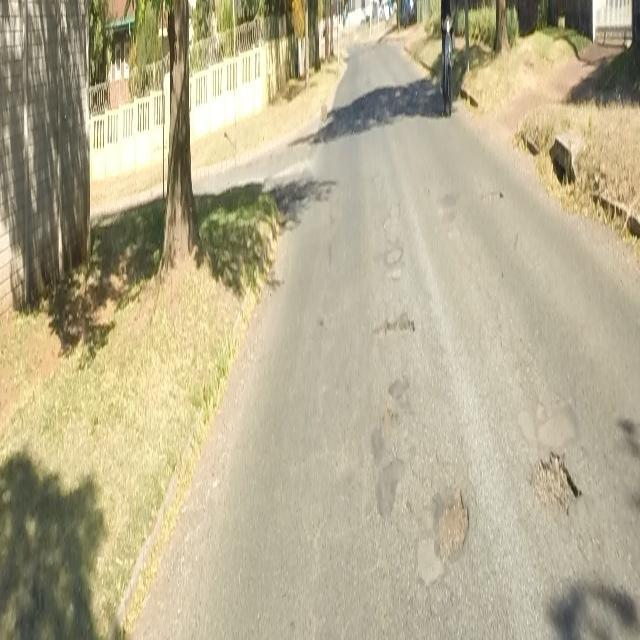pothole: (526, 446, 589, 519), (427, 480, 476, 569)
